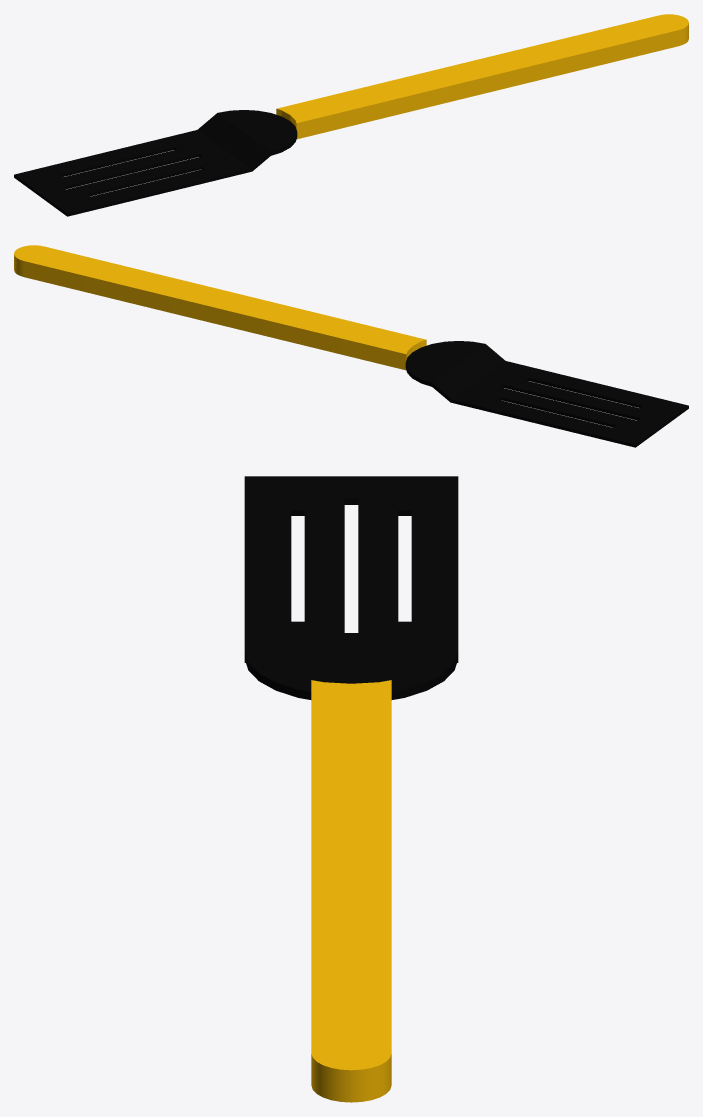
Rendered from turner_06_origin_gt_1.dae.
3 renders of one model, top to bottom at view 1: azimuth 30°, elevation 25°; view 2: azimuth 150°, elevation 25°; view 3: azimuth 270°, elevation 25°, orthographic. The views are drawn at different scales.
Visible parts, largest first — view 1: group_1 (×4), group_0; view 2: group_1 (×4), group_0; view 3: group_1, group_0.
Boxes of the visible parts, x1,y1,x2,y2 form: group_1 (×4): [14, 110, 297, 216]; group_0: [276, 14, 688, 139]; group_1 (×4): [405, 341, 688, 447]; group_0: [14, 245, 426, 370]; group_1: [244, 476, 458, 699]; group_0: [311, 680, 391, 1102].
Size of the model in its own units: 13.96 by 2 by 0.4375.
